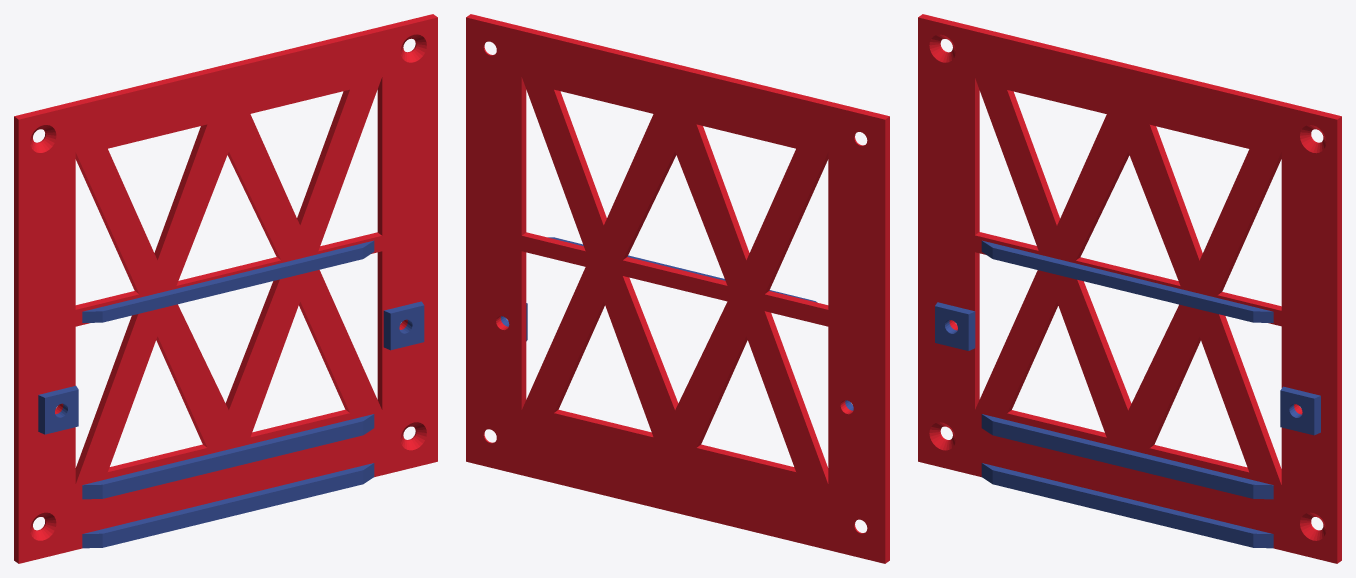
Rendered from tinker.obj.
3 views of the same model, side by side, from view 1: azimuth 30°, elevation 25°; view 2: azimuth 150°, elevation 25°; view 3: azimuth 330°, elevation 25° (orthographic).
Visible parts, largest first — view 1: group_0_15277357, group_0_3888547; view 2: group_0_15277357, group_0_3888547; view 3: group_0_15277357, group_0_3888547.
Boxes of the visible parts, <box> form: group_0_15277357: <box>14,14,437,563</box>; group_0_3888547: <box>38,240,424,548</box>; group_0_15277357: <box>466,14,889,563</box>; group_0_3888547: <box>501,237,853,410</box>; group_0_15277357: <box>918,14,1341,563</box>; group_0_3888547: <box>935,240,1320,548</box>.
Size of the model in its own units: 155 by 157 by 6.
